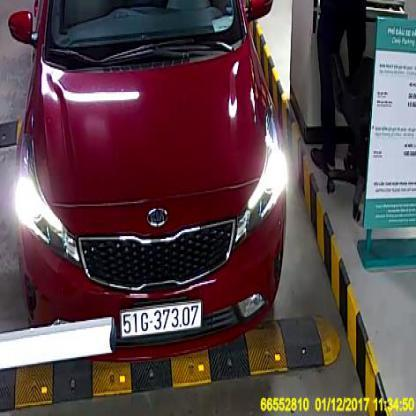biensoxe: (121, 300, 202, 338)
